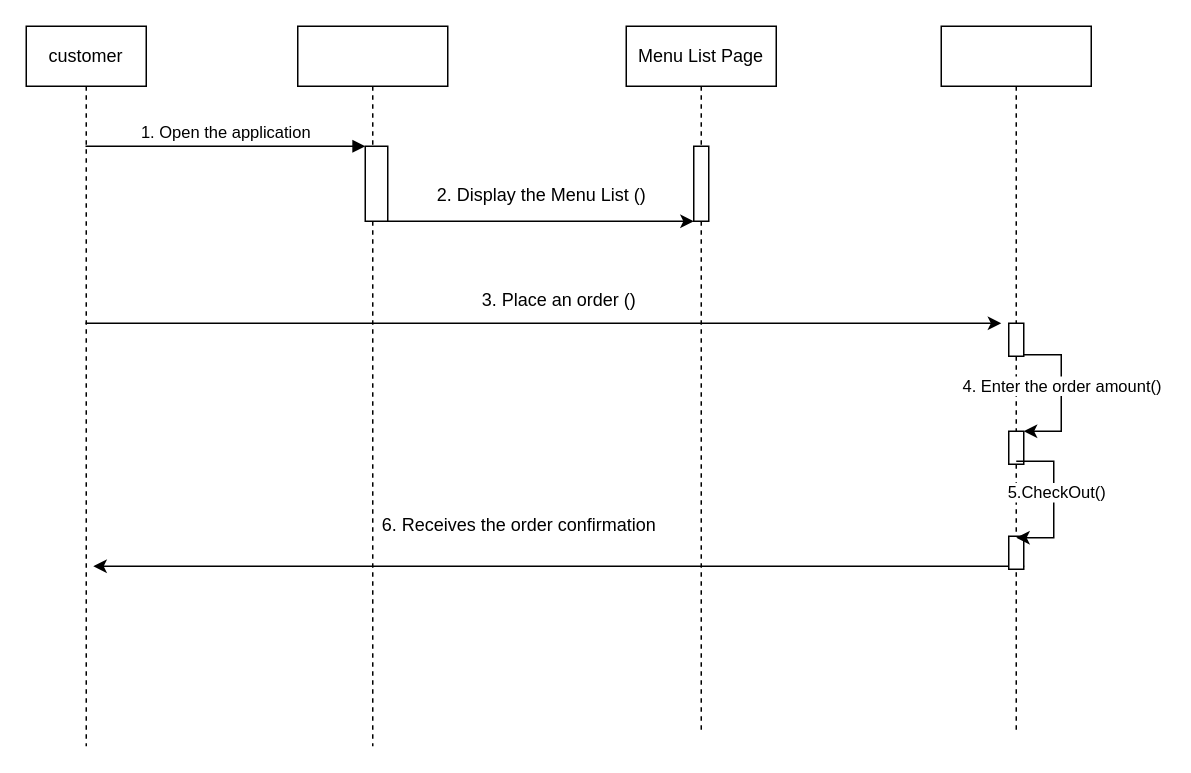
The diagram is 1191 pixels wide and 773 high, and some of its shapes have lost their labels. Here are the shapes that lost their labels. From the top down, the box of each, then its label:
(296, 25, 448, 746): Home Page
(940, 25, 1091, 731): Order Page
